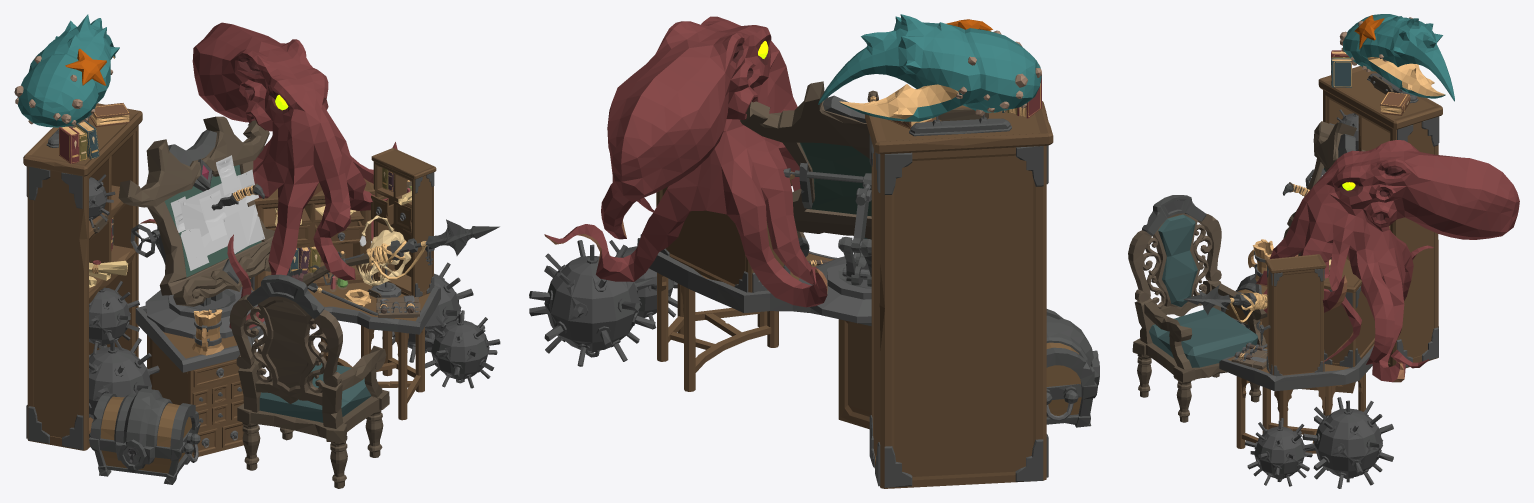
The model's file is Table_Preset_001.fbx.
The picture shows the model from 3 angles, left to right: view 1: azimuth 30°, elevation 25°; view 2: azimuth 150°, elevation 25°; view 3: azimuth 270°, elevation 25°; orthographic projection. The views are drawn at different scales.
Parts seen in each view (by area): view 1: Table_Preset_001; view 2: Table_Preset_001; view 3: Table_Preset_001.
Boxes of the visible parts, x1,y1,x2,y2 form: Table_Preset_001: (14, 14, 500, 488); Table_Preset_001: (529, 14, 1099, 488); Table_Preset_001: (1128, 14, 1519, 488).
Bounding box in the file's own units: 4.5 × 3.8 × 4.
